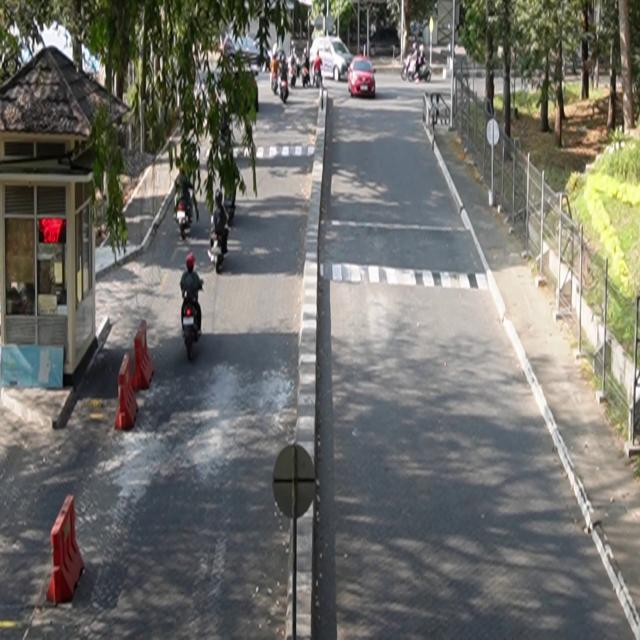car: (349, 56, 377, 99)
